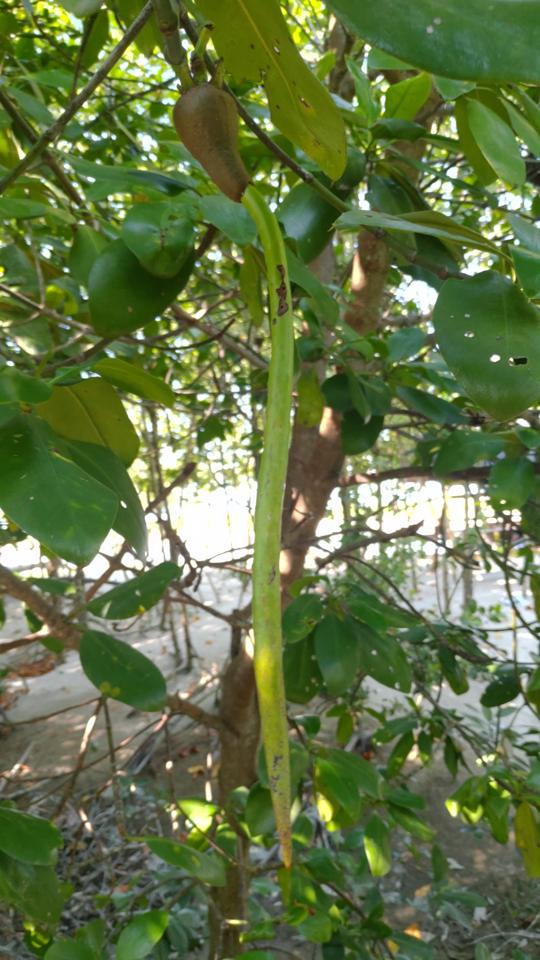mentah: (153, 49, 324, 886)
